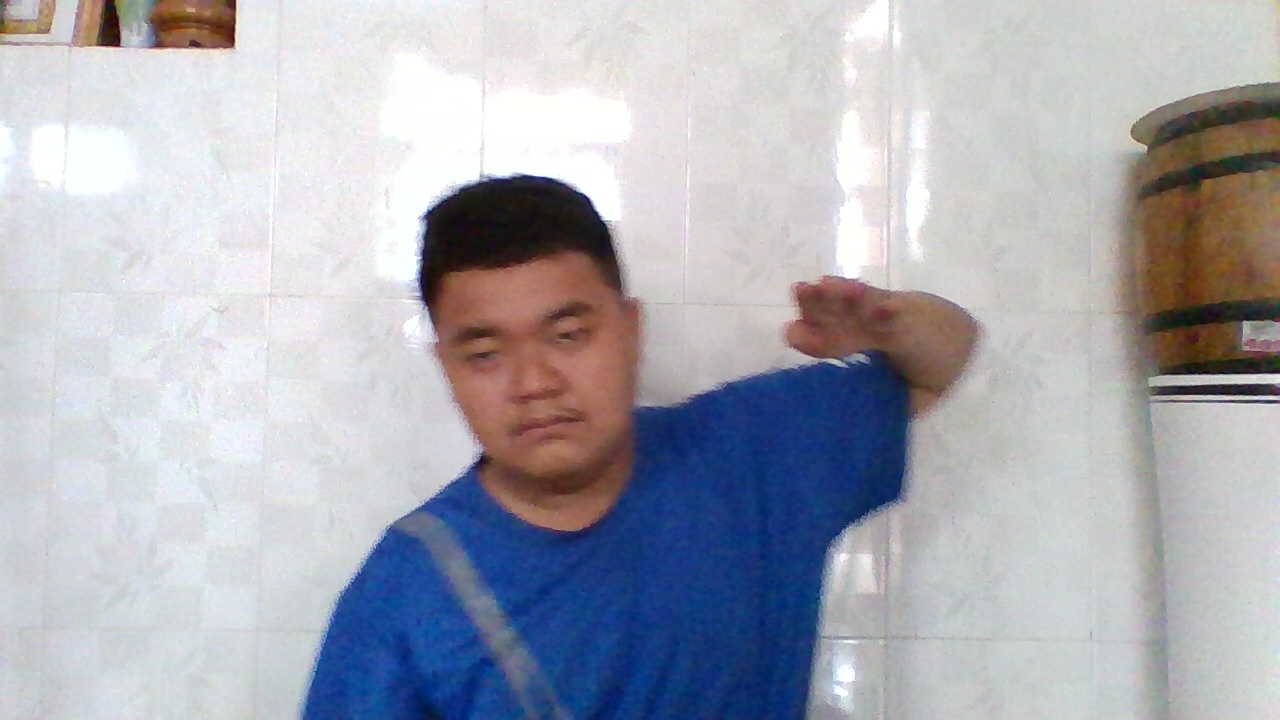B: (766, 267, 882, 362)
